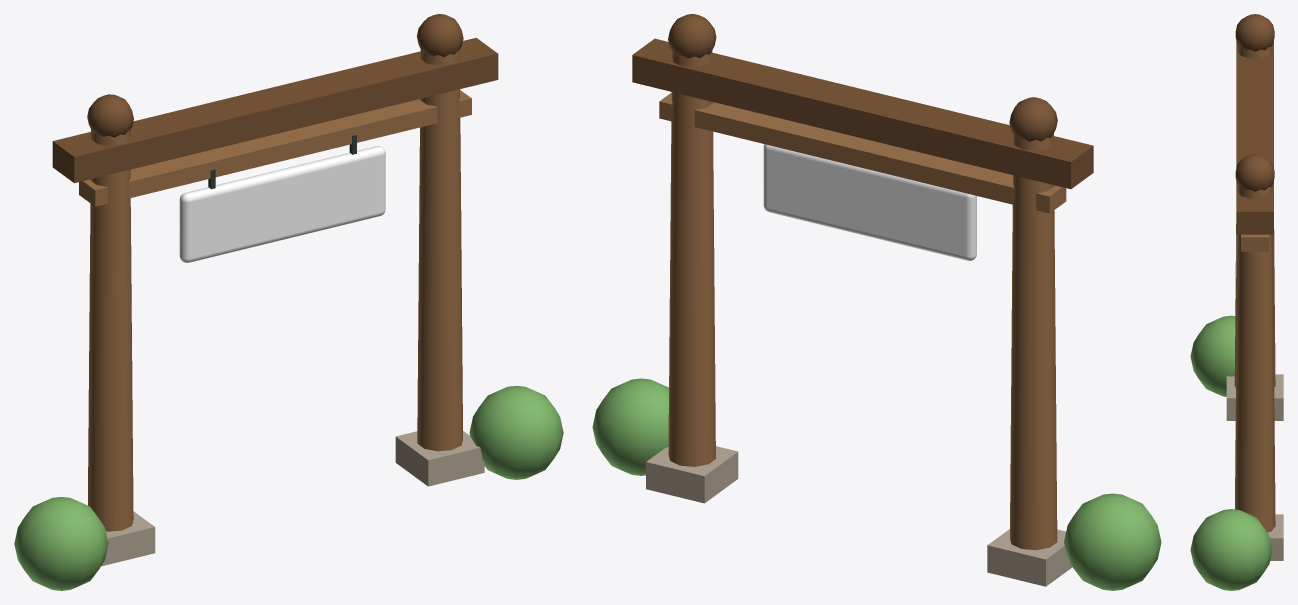
File: prop_hood_gate_ph.glb
The picture shows the model from 3 angles, left to right: view 1: azimuth 30°, elevation 25°; view 2: azimuth 150°, elevation 25°; view 3: azimuth 270°, elevation 25°; orthographic projection. The views are drawn at different scales.
Visible parts, largest first — view 1: prop_hood_gate; view 2: prop_hood_gate; view 3: prop_hood_gate.
Boxes of the visible parts, x1,y1,x2,y2 form: prop_hood_gate: [14, 14, 563, 590]; prop_hood_gate: [592, 14, 1161, 590]; prop_hood_gate: [1190, 14, 1283, 590].
Size of the model in its own units: 3.42 by 2.83 by 0.59.
